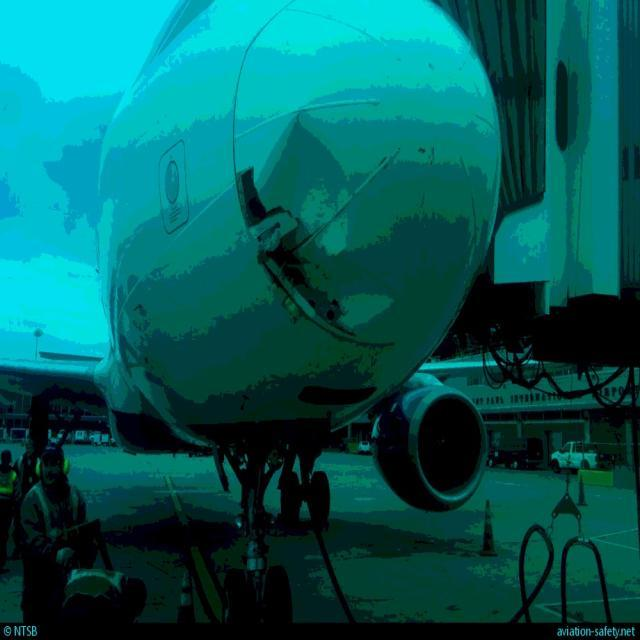dent: (256, 110, 352, 255), (324, 261, 397, 329)
